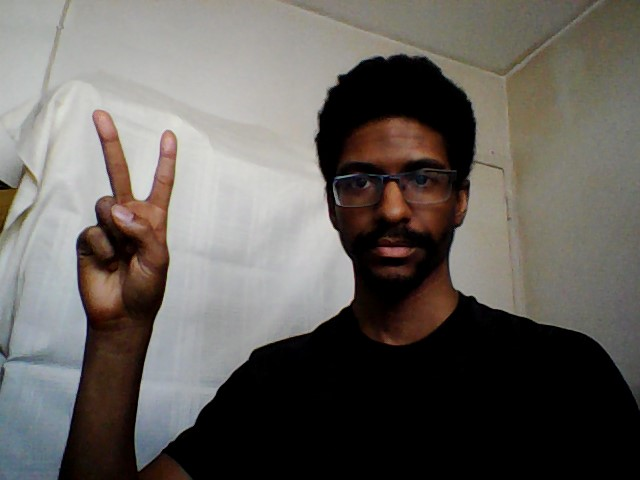v: (70, 105, 182, 339)
